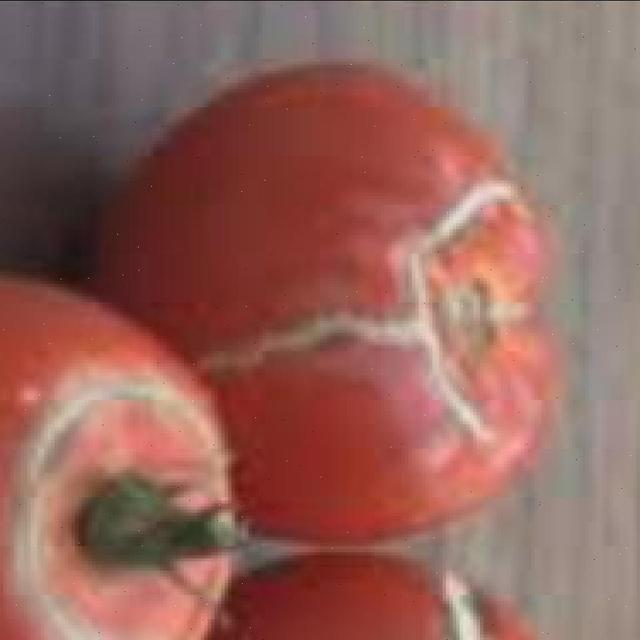Cracking Fruit: (45, 47, 309, 403)
